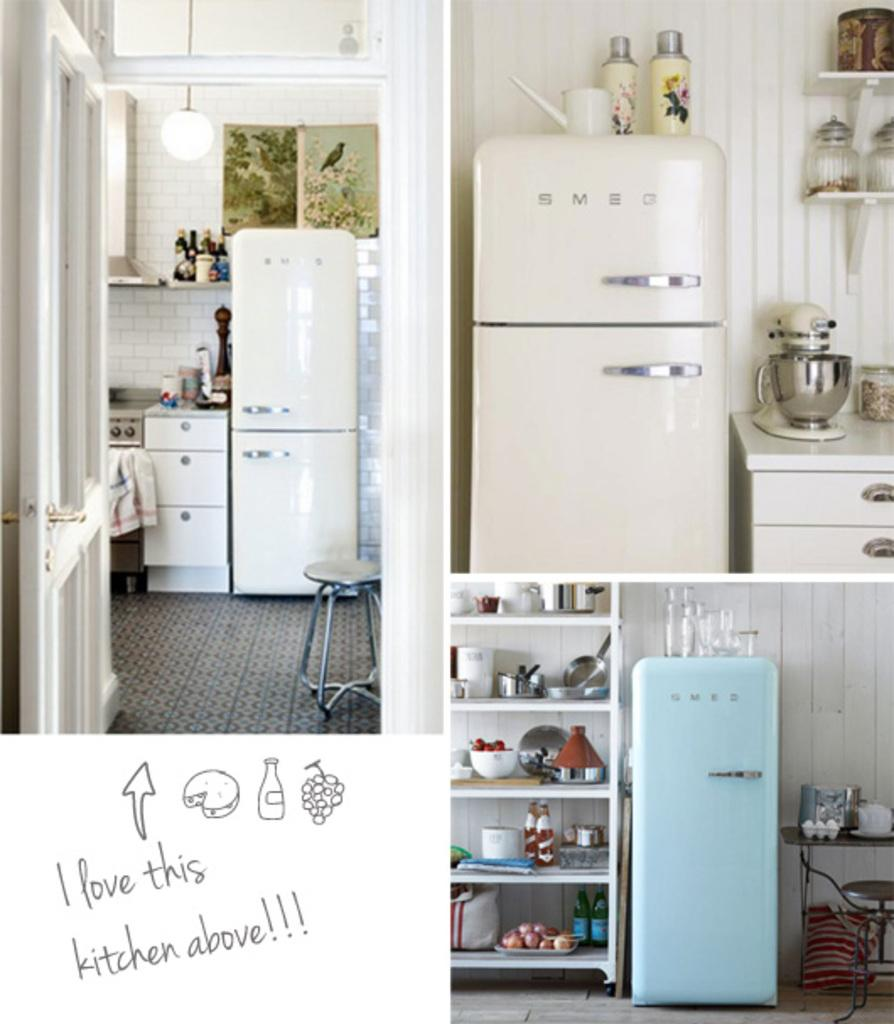cabinet_door: (753, 476, 894, 530), (758, 532, 894, 584), (150, 452, 222, 504), (150, 505, 222, 553), (146, 421, 223, 452)
handle: (599, 354, 704, 380), (600, 269, 706, 290), (42, 504, 90, 534), (704, 761, 762, 784), (244, 444, 291, 466), (858, 481, 894, 509), (241, 401, 294, 418), (863, 539, 894, 565), (178, 505, 192, 526), (180, 420, 192, 436), (180, 454, 192, 468)
